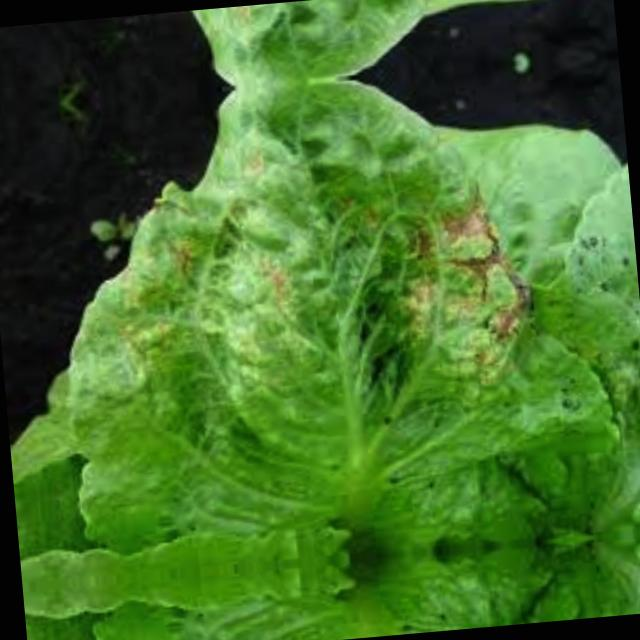Lettuce - Anthracnose: (0, 53, 640, 586), (24, 530, 640, 640), (0, 0, 616, 107)
